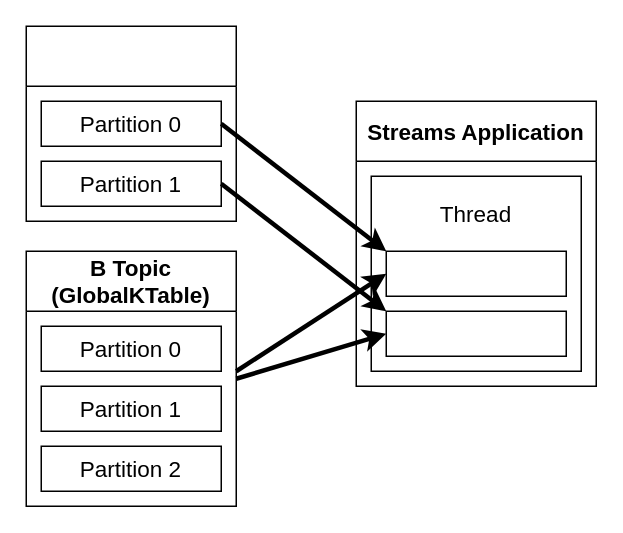
Image size: 623x533. Some labels were removed from this diagram. Here are the shapes that lost their labels. From the top down, the box of each, then its label:
(25, 25, 236, 221): A Topic (KStream)
(385, 250, 566, 296): Task 0
(385, 310, 566, 356): Task 1
